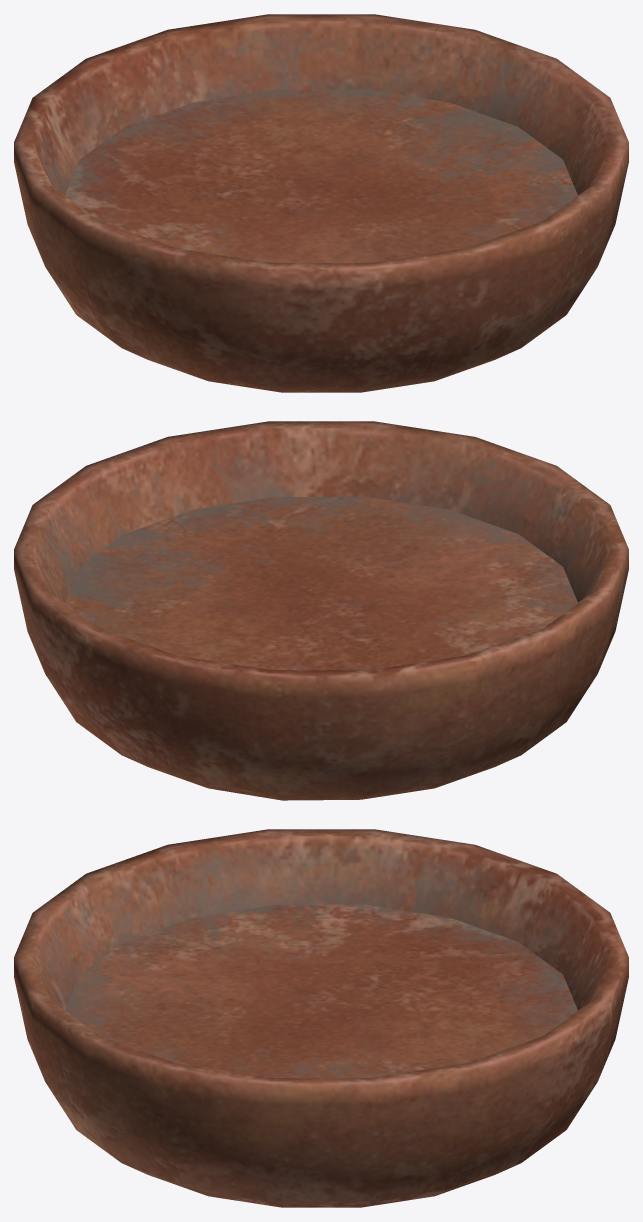
File: SM_Bowl_01.fbx
3 renders of one model, top to bottom at view 1: azimuth 30°, elevation 25°; view 2: azimuth 150°, elevation 25°; view 3: azimuth 270°, elevation 25°, orthographic.
Visible parts, largest first — view 1: SM_Bowl_01_LOD0; view 2: SM_Bowl_01_LOD0; view 3: SM_Bowl_01_LOD0.
Part boxes in pixels (left/top/right/bottom): SM_Bowl_01_LOD0: left=14, top=14, right=628, bottom=392; SM_Bowl_01_LOD0: left=14, top=421, right=628, bottom=800; SM_Bowl_01_LOD0: left=14, top=829, right=628, bottom=1207.
Size of the model in its own units: 16.9 by 17.17 by 4.83.
Materials: 1 (1 with a texture image).
